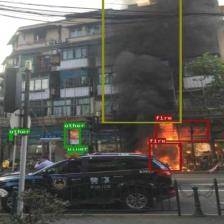fire: (154, 119, 208, 142), (148, 143, 182, 171)
smoke: (102, 0, 182, 123)
